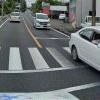crosswalks: (0, 46, 76, 71)
